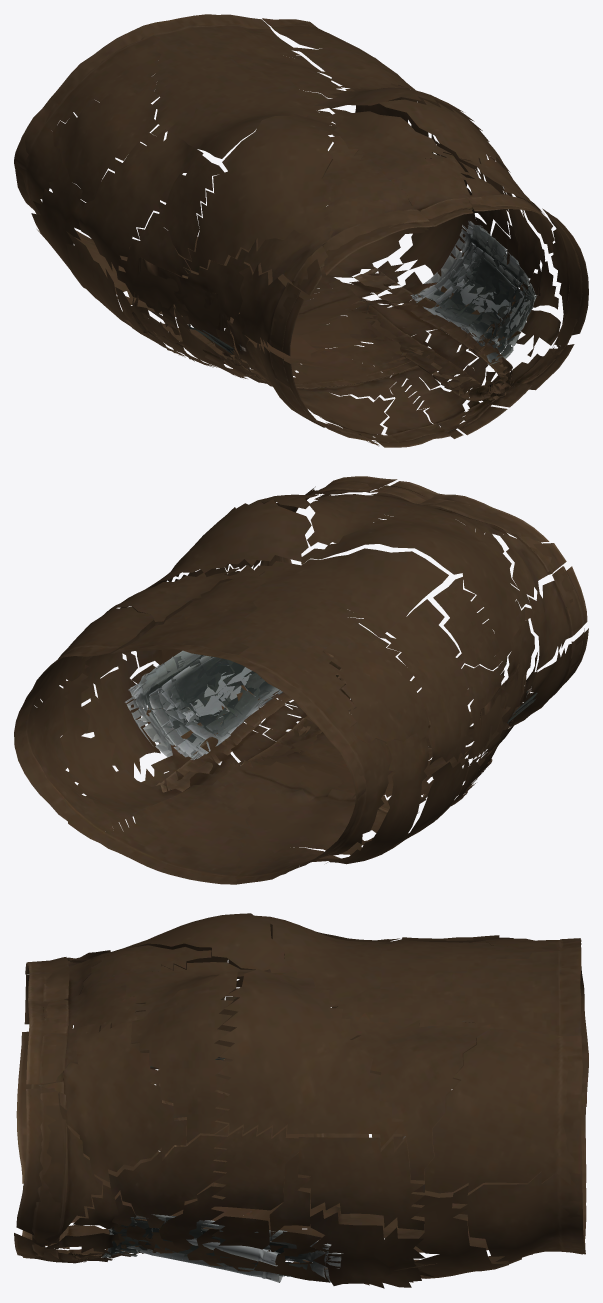
The model's file is adult-base-01.mobile.glb.
3 renders of one model, top to bottom at view 1: azimuth 30°, elevation 25°; view 2: azimuth 150°, elevation 25°; view 3: azimuth 270°, elevation 25°, orthographic. The views are drawn at different scales.
Visible parts, largest first — view 1: geometry_0; view 2: geometry_0; view 3: geometry_0.
Part boxes in pixels (x1=…): geometry_0: x1=14, y1=14, x2=588, y2=447; geometry_0: x1=14, y1=476, x2=588, y2=884; geometry_0: x1=14, y1=913, x2=588, y2=1288.
Size of the model in its own units: 0.00412 by 0.00284 by 0.00512.
Materials: 1 (1 with a texture image).
